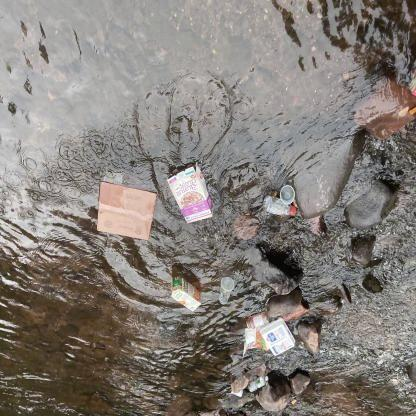Plastic: (260, 182, 300, 219), (214, 272, 236, 310), (246, 374, 271, 394)
